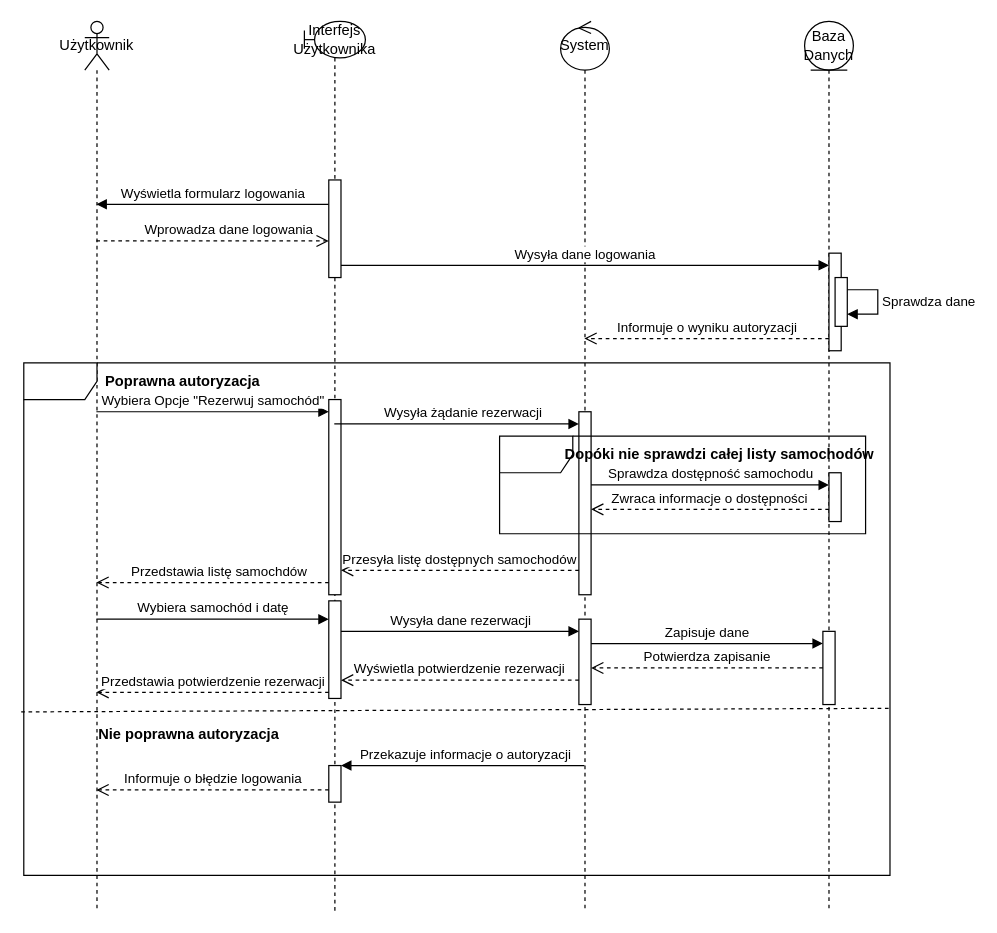
Some shapes in this 997 by 933 pixel diagram are drawn without their labels. Each missing label, with the box of its shape:
alt: (23, 362, 890, 875)
Loop: (498, 435, 866, 534)
